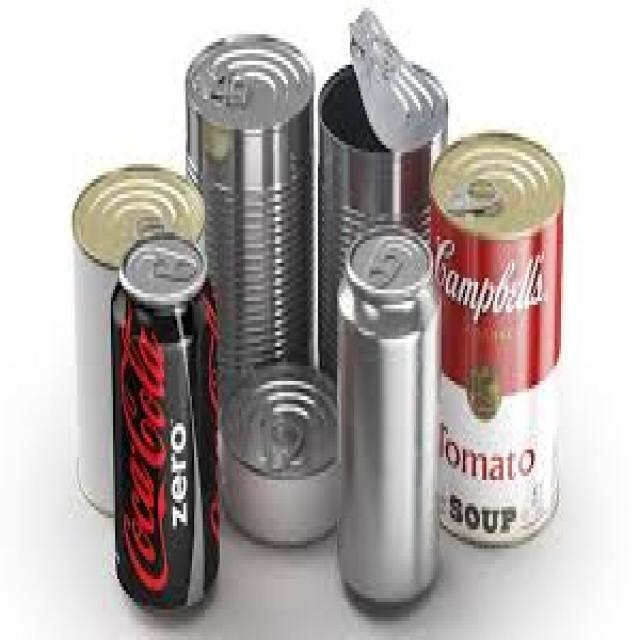recyclable: (430, 130, 565, 550), (318, 6, 450, 373), (186, 34, 316, 405), (74, 161, 205, 518), (110, 228, 223, 612), (338, 226, 443, 620), (220, 359, 340, 549)
